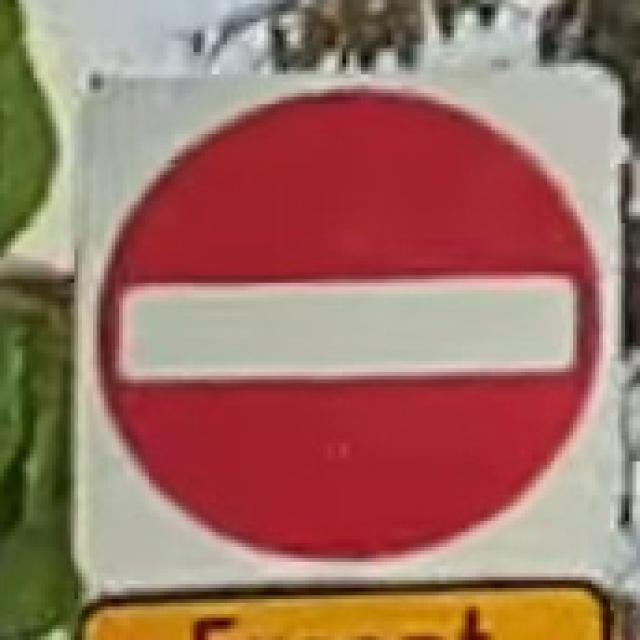noentry_sign: (67, 63, 621, 588)
